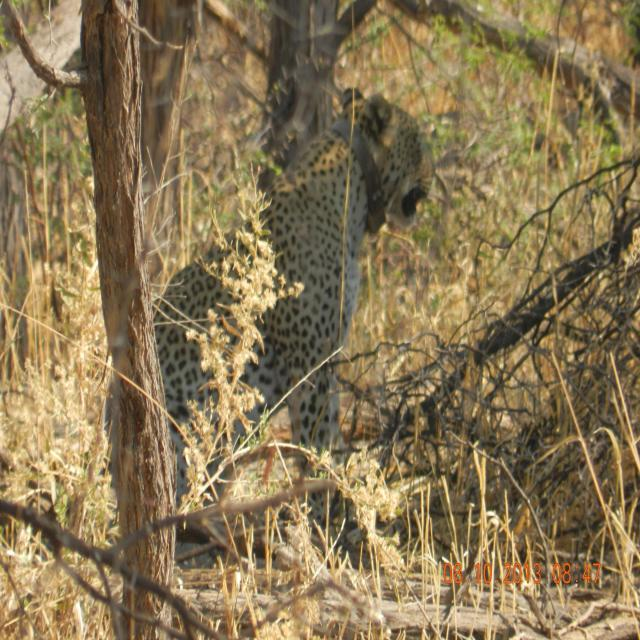Leopard: (132, 113, 428, 500)
